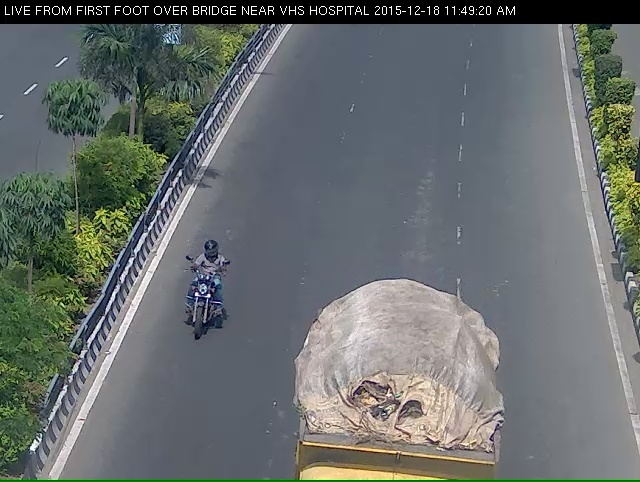Person: (163, 273, 217, 390)
